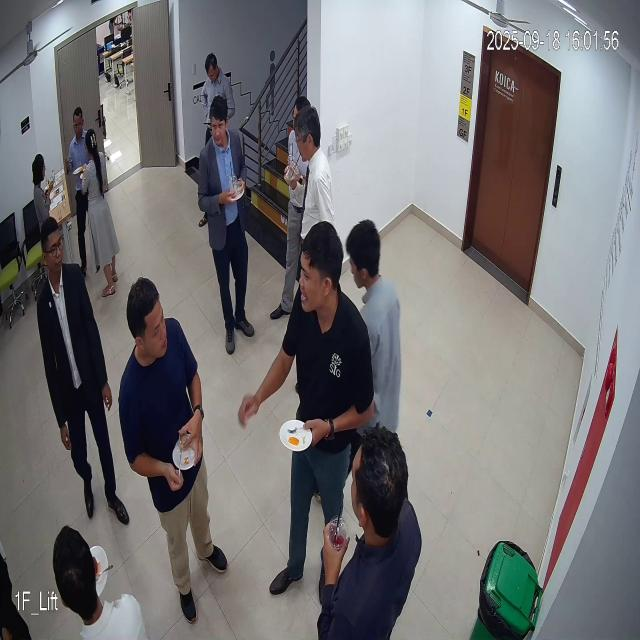face: (296, 219, 342, 315), (125, 274, 172, 362), (41, 218, 69, 278), (208, 103, 231, 151)
